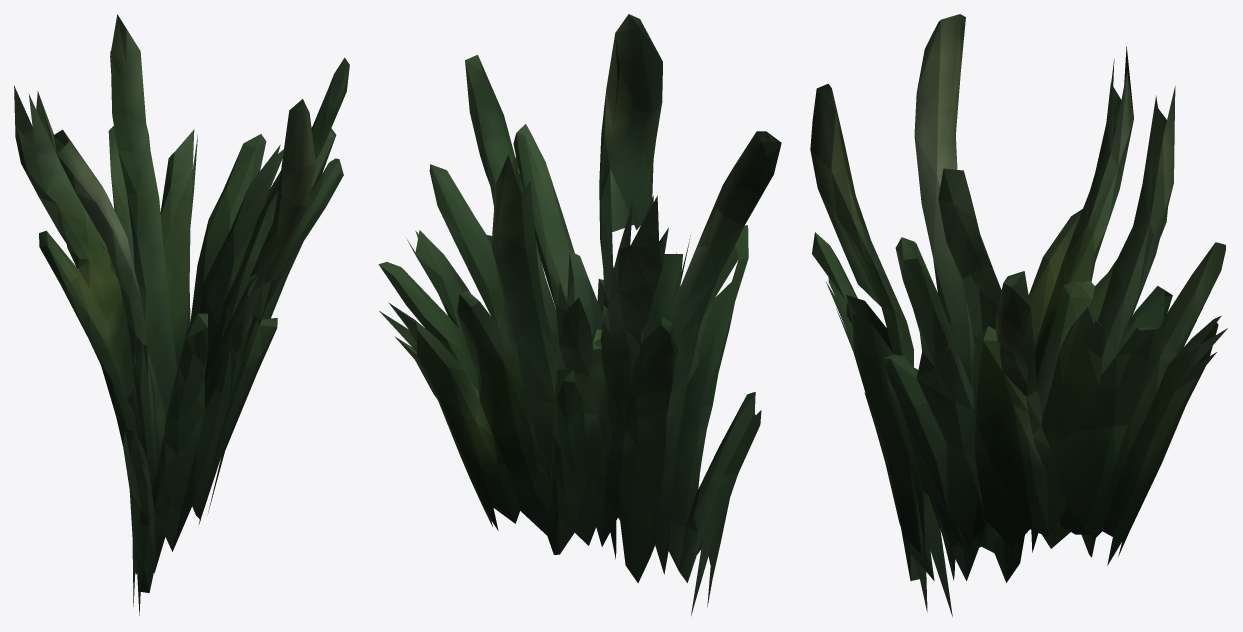
File: terrain4_plant_2.glb
3 views of the same model, side by side, from view 1: azimuth 30°, elevation 25°; view 2: azimuth 150°, elevation 25°; view 3: azimuth 270°, elevation 25° (orthographic). The views are drawn at different scales.
Visible parts, largest first — view 1: plant_2; view 2: plant_2; view 3: plant_2.
Part boxes in pixels (left/top/right/bottom): plant_2: left=14, top=14, right=349, bottom=615; plant_2: left=378, top=14, right=781, bottom=615; plant_2: left=810, top=14, right=1227, bottom=616.
Size of the model in its own units: 8.3 by 13.3 by 8.43.
1 material, 1 textured.
